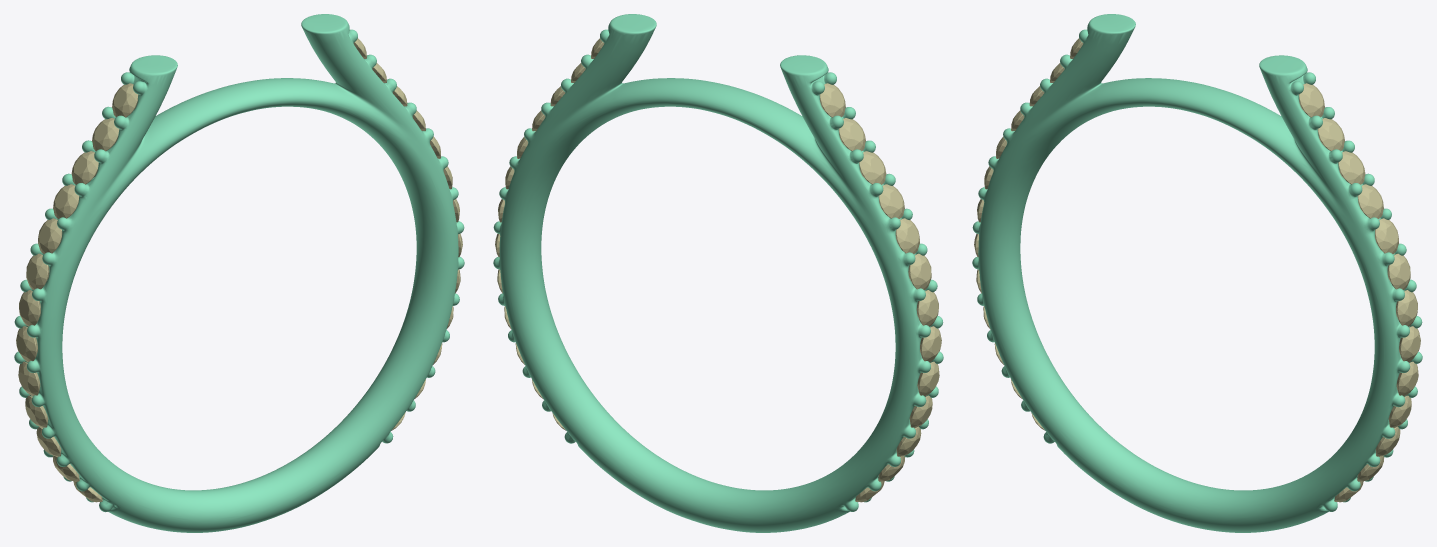
3 views of the same model, side by side, from view 1: azimuth 30°, elevation 25°; view 2: azimuth 150°, elevation 25°; view 3: azimuth 330°, elevation 25° (orthographic).
Visible parts, largest first — view 1: Metal02, Diamond_Gem.017, Diamond_Gem.016, Diamond_Gem.024, Diamond_Gem.025, Diamond_Gem.015, Diamond_Gem.014, Diamond_Gem.023, Diamond_Gem.022; view 2: Metal02, Diamond_Gem.017, Diamond_Gem.016, Diamond_Gem.024, Diamond_Gem.025, Diamond_Gem.015, Diamond_Gem.014, Diamond_Gem.023, Diamond_Gem.022; view 3: Metal02, Diamond_Gem.008, Diamond_Gem.009, Diamond_Gem.001, Diamond_Gem, Diamond_Gem.010, Diamond_Gem.011, Diamond_Gem.002, Diamond_Gem.003.
Boxes of the visible parts, x1,y1,x2,y2 form: Metal02: (14,14,464,532); Diamond_Gem.017: (71,151,98,184); Diamond_Gem.016: (53,184,79,218); Diamond_Gem.024: (92,118,119,151); Diamond_Gem.025: (112,83,138,117); Diamond_Gem.015: (38,218,62,253); Diamond_Gem.014: (26,253,49,289); Diamond_Gem.023: (19,290,40,326); Diamond_Gem.022: (16,326,37,362); Metal02: (493,14,943,532); Diamond_Gem.017: (859,151,886,184); Diamond_Gem.016: (878,184,904,218); Diamond_Gem.024: (838,118,865,151); Diamond_Gem.025: (819,83,845,117); Diamond_Gem.015: (895,218,919,253); Diamond_Gem.014: (908,253,931,290); Diamond_Gem.023: (916,290,938,326); Diamond_Gem.022: (920,326,941,362); Metal02: (972,14,1422,532); Diamond_Gem.008: (1338,151,1365,184); Diamond_Gem.009: (1357,184,1383,218); Diamond_Gem.001: (1317,118,1344,151); Diamond_Gem: (1298,83,1324,117); Diamond_Gem.010: (1375,218,1398,253); Diamond_Gem.011: (1387,253,1410,289); Diamond_Gem.002: (1396,290,1417,326); Diamond_Gem.003: (1399,326,1420,362).
Size of the model in its own units: 20.94 by 22.05 by 1.99.
